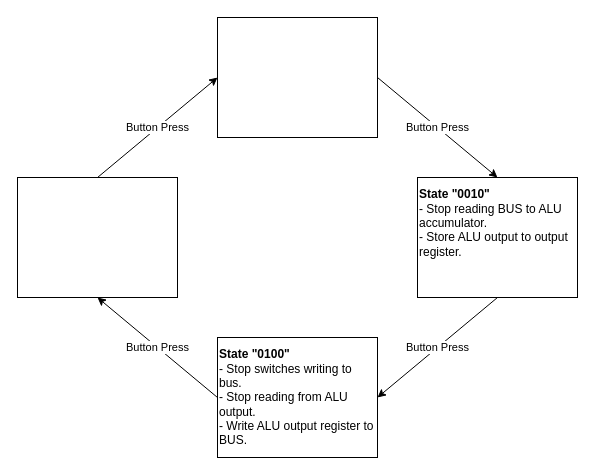
Some shapes in this 595 by 475 pixel diagram are drawn without their labels. The shapes that lost their labels are listed below. From the top down, each one's box as (x1, y1, x2, y2) in pixels, then its label:
(216, 16, 378, 138): State "0001" - Write Switches to BUS. - Read BUS to ALU accumulator.
(16, 176, 178, 298): State "1000" - Stop writing ALU output register to BUS.
